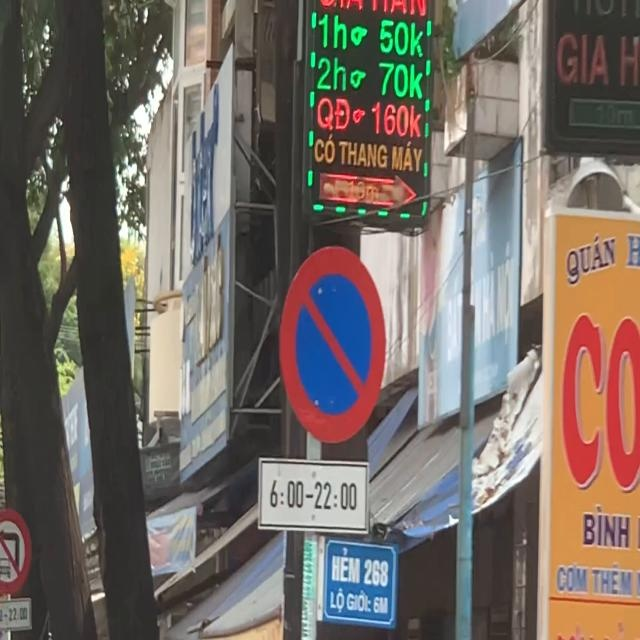bien_cam: (280, 240, 387, 442)
